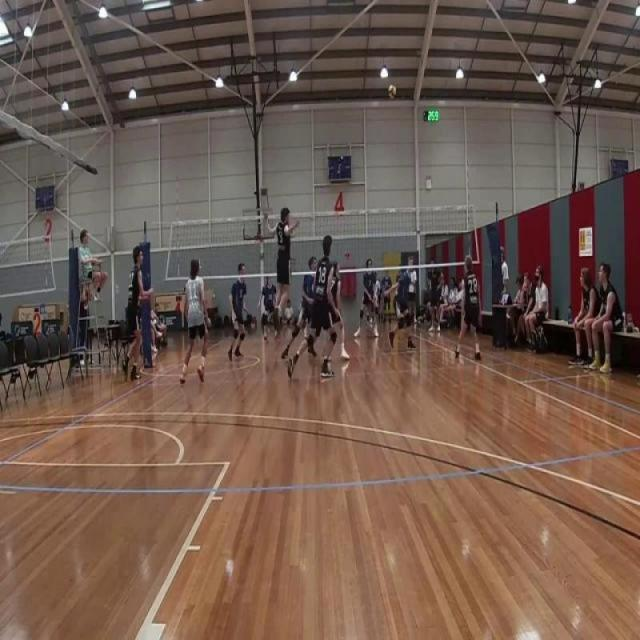volleyball: (387, 84, 396, 100)
